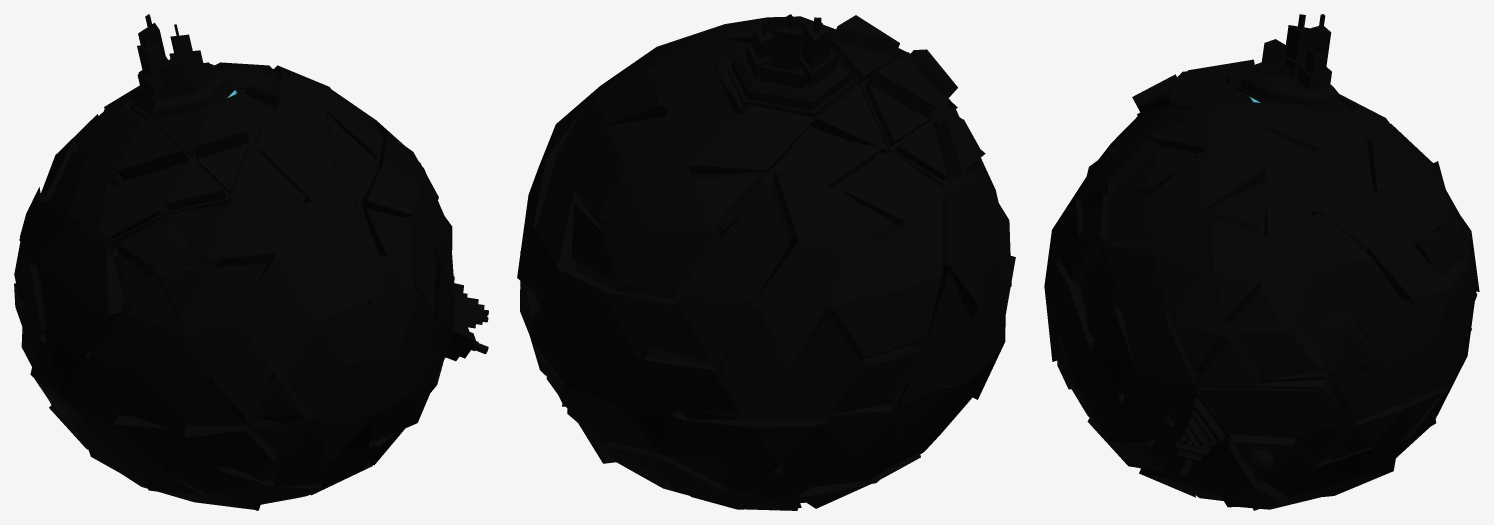
The model's file is globe2.gltf.
3 renders of one model, left to right at view 1: azimuth 30°, elevation 25°; view 2: azimuth 150°, elevation 25°; view 3: azimuth 270°, elevation 25°, orthographic. The views are drawn at different scales.
Visible parts, largest first — view 1: Icosphere.003; view 2: Icosphere.003; view 3: Icosphere.003.
Part boxes in pixels (bbox=[...]): Icosphere.003: bbox=[14, 14, 488, 510]; Icosphere.003: bbox=[517, 14, 1015, 510]; Icosphere.003: bbox=[1044, 14, 1479, 510].
Size of the model in its own units: 2.7 by 2.92 by 2.57.
Materials: 1 (1 with a texture image).
